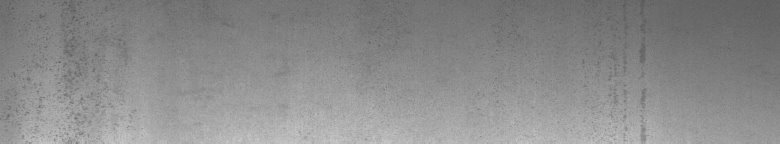ib: (4, 5, 113, 127)
